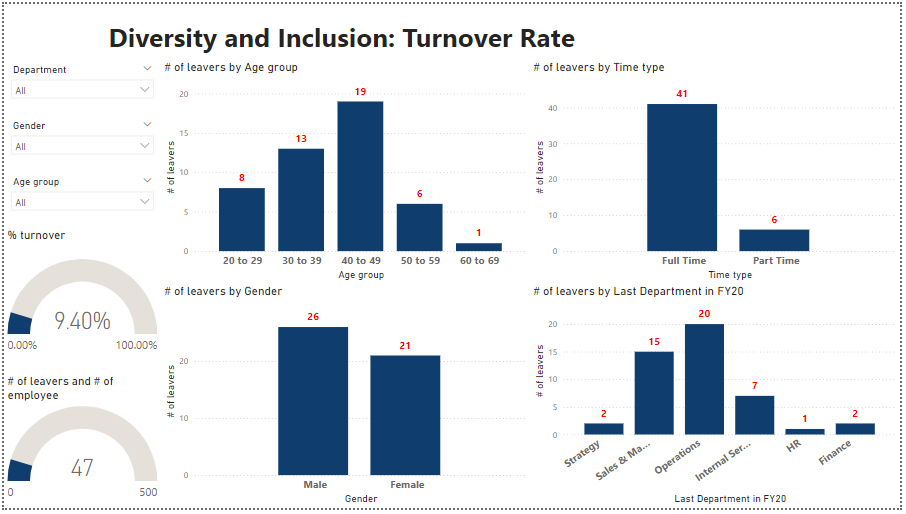

What the dashboard file says about the page in this screenshot:
{"tool":"powerbi","page":{"name":"Turnover","canvas":[1280,720],"ordinal":3},"visuals":[{"type":"gauge","fields":{"Y":["Pharma Group AG.% turnover"]},"box":[0,320,224,208],"z":0},{"type":"clusteredColumnChart","fields":{"Y":["Pharma Group AG.# of leavers"],"Category":["Pharma Group AG.Age group"]},"box":[224,80,528,320],"z":1000},{"type":"clusteredColumnChart","fields":{"Y":["Pharma Group AG.# of leavers"],"Category":["Pharma Group AG.Gender"]},"box":[224,400,528,320],"z":2000},{"type":"clusteredColumnChart","fields":{"Y":["Pharma Group AG.# of leavers"],"Category":["Pharma Group AG.Last Department in FY20"]},"box":[752,400,528,320],"z":3000},{"type":"clusteredColumnChart","fields":{"Y":["Pharma Group AG.# of leavers"],"Category":["Pharma Group AG.Time type"]},"box":[752,80,528,320],"z":4000},{"type":"gauge","fields":{"Y":["Pharma Group AG.# of leavers"],"MaxValue":["Pharma Group AG.# of employee"]},"box":[0,528,224,192],"z":5000},{"type":"slicer","fields":{"Values":["Pharma Group AG.Age group"]},"box":[0,240,224,80],"z":6000},{"type":"slicer","fields":{"Values":["Pharma Group AG.Gender"]},"box":[0,160,224,80],"z":7000},{"type":"slicer","fields":{"Values":["Pharma Group AG.Last Department in FY20"]},"box":[0,80,224,80],"z":8000},{"type":"textbox","box":[144,16,720,64],"z":10000}]}

Visuals, with their boxes in screenshot pixels (x1, y1, x2, y2), scaled from the page's 1280x720 canvas onto the 906x514 screenshot:
gauge - Pharma Group AG.% turnover: pyautogui.locateOnScreen(0, 228, 159, 377)
clusteredColumnChart - Pharma Group AG.# of leavers x Pharma Group AG.Age group: pyautogui.locateOnScreen(159, 57, 532, 286)
clusteredColumnChart - Pharma Group AG.# of leavers x Pharma Group AG.Gender: pyautogui.locateOnScreen(159, 286, 532, 513)
clusteredColumnChart - Pharma Group AG.# of leavers x Pharma Group AG.Last Department in FY20: pyautogui.locateOnScreen(532, 286, 905, 513)
clusteredColumnChart - Pharma Group AG.# of leavers x Pharma Group AG.Time type: pyautogui.locateOnScreen(532, 57, 905, 286)
gauge - Pharma Group AG.# of leavers x Pharma Group AG.# of employee: pyautogui.locateOnScreen(0, 377, 159, 513)
slicer - Pharma Group AG.Age group: pyautogui.locateOnScreen(0, 171, 159, 228)
slicer - Pharma Group AG.Gender: pyautogui.locateOnScreen(0, 114, 159, 171)
slicer - Pharma Group AG.Last Department in FY20: pyautogui.locateOnScreen(0, 57, 159, 114)
textbox: pyautogui.locateOnScreen(102, 11, 612, 57)
